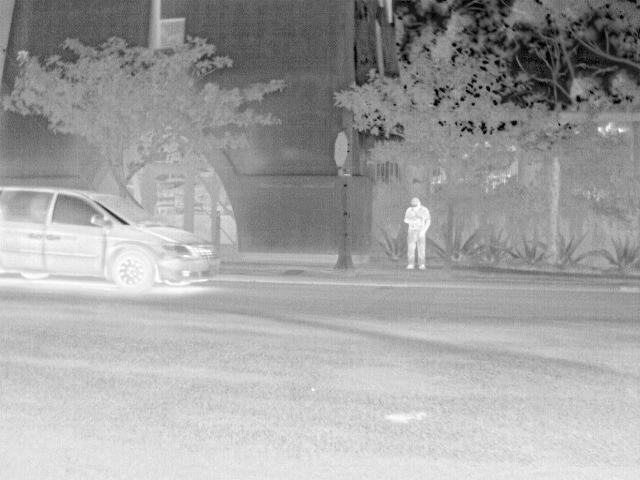car: (1, 183, 222, 294)
person: (403, 195, 432, 270)
